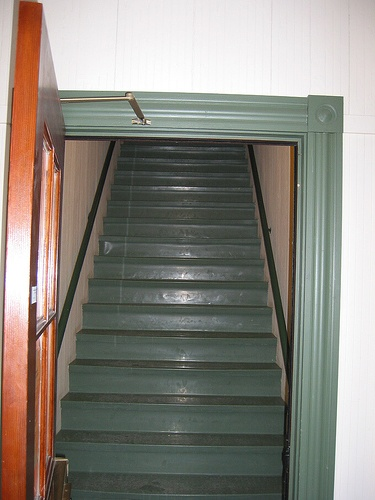stairs_up: (59, 145, 284, 479)
